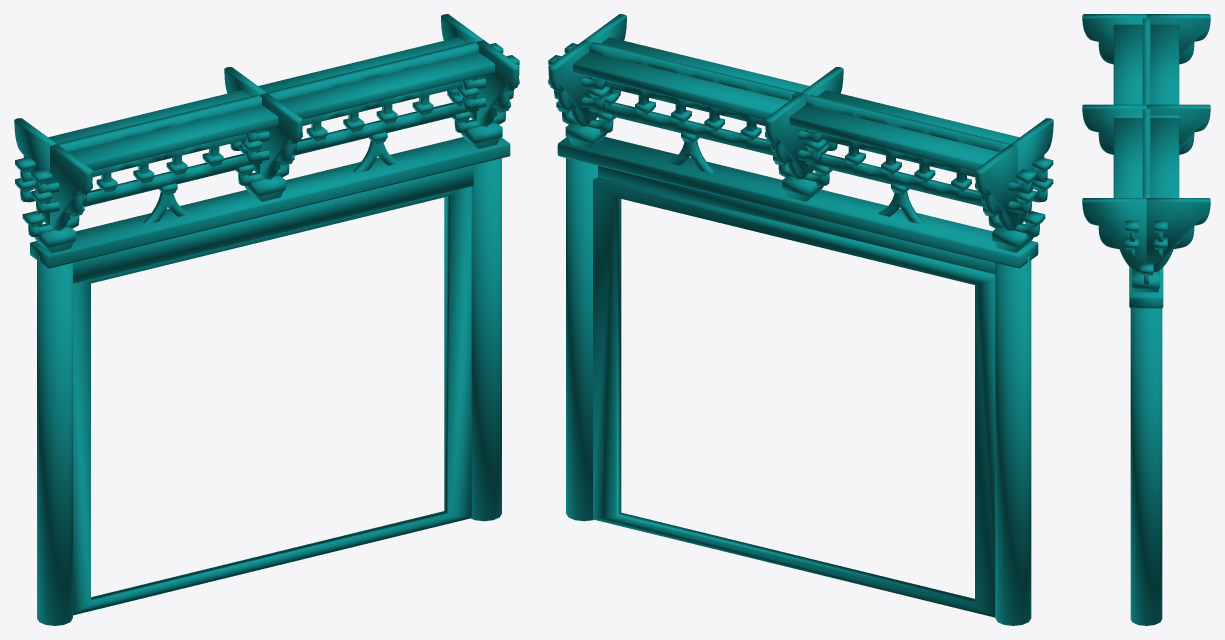
3 views of the same model, side by side, from view 1: azimuth 30°, elevation 25°; view 2: azimuth 150°, elevation 25°; view 3: azimuth 270°, elevation 25° (orthographic). The views are drawn at different scales.
Visible parts, largest first — view 1: dsaw005; view 2: dsaw005; view 3: dsaw005.
Boxes of the visible parts, x1=… form: dsaw005: x1=14, y1=14, x2=519, y2=625; dsaw005: x1=548, y1=14, x2=1053, y2=625; dsaw005: x1=1082, y1=14, x2=1210, y2=625.
Bounding box in the file's own units: 520 × 489 × 136.
